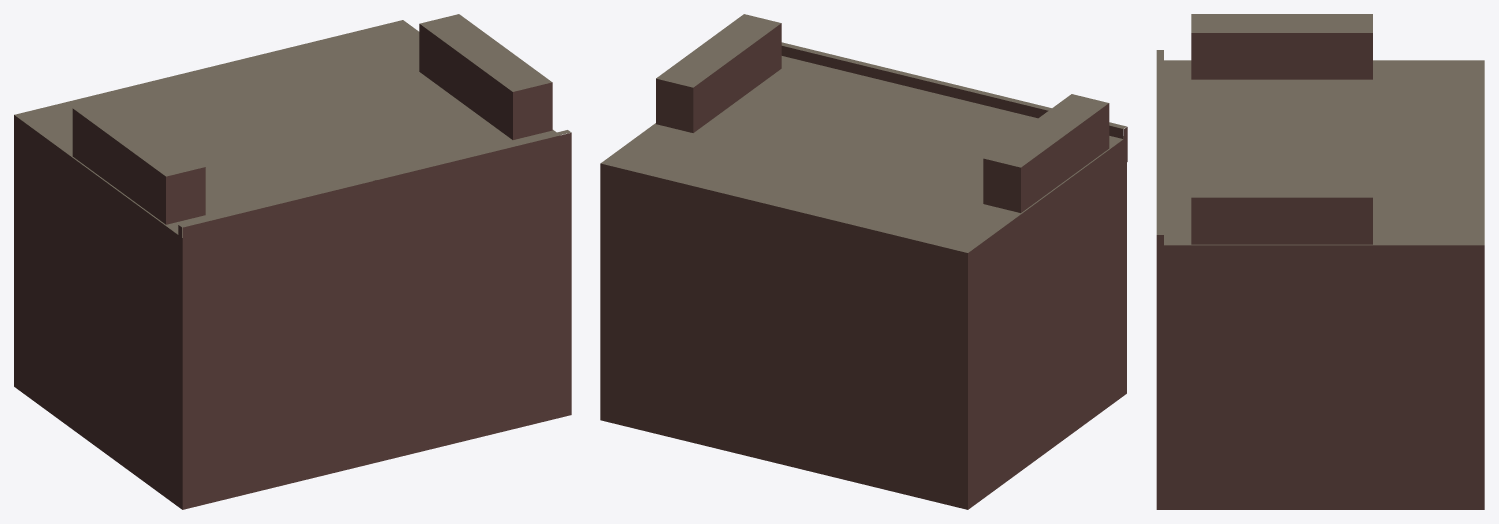
Rendered from mh-dutch-duplex.far-facades-v3.lod2.glb.
The picture shows the model from 3 angles, left to right: view 1: azimuth 30°, elevation 25°; view 2: azimuth 150°, elevation 25°; view 3: azimuth 270°, elevation 25°; orthographic projection. The views are drawn at different scales.
Parts seen in each view (by area): view 1: mh-dutch-duplex; view 2: mh-dutch-duplex; view 3: mh-dutch-duplex.
Boxes of the visible parts, left/top/right/bottom form: mh-dutch-duplex: left=14, top=14, right=571, bottom=509; mh-dutch-duplex: left=600, top=14, right=1127, bottom=509; mh-dutch-duplex: left=1156, top=14, right=1484, bottom=509.
Size of the model in its own units: 15.23 by 11.95 by 11.41.
